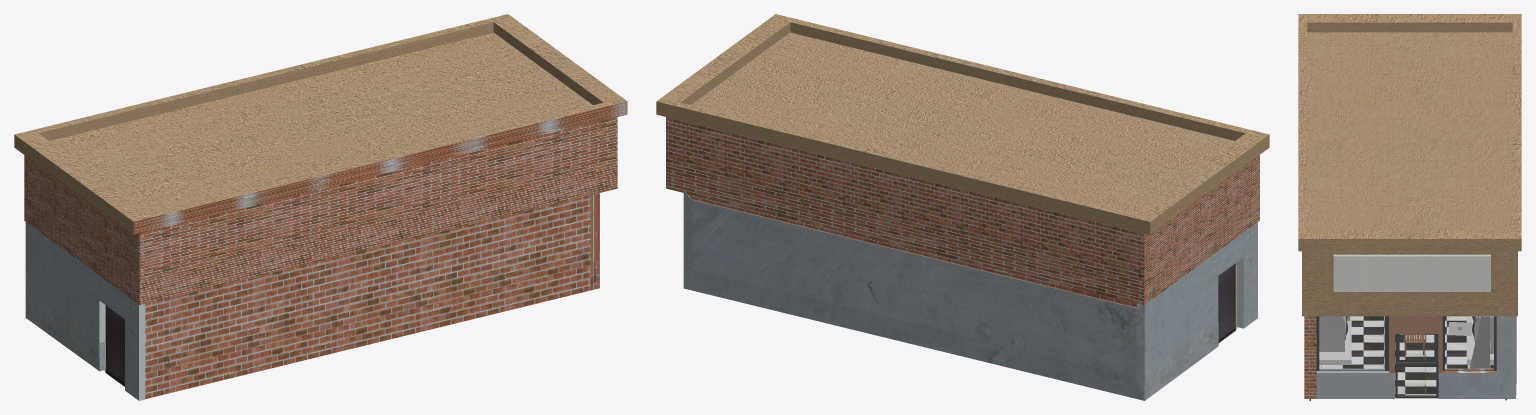
The model's file is Laundromat.dae.
The picture shows the model from 3 angles, left to right: view 1: azimuth 30°, elevation 25°; view 2: azimuth 150°, elevation 25°; view 3: azimuth 270°, elevation 25°; orthographic projection. The views are drawn at different scales.
Parts seen in each view (by area): view 1: Plane.212, Cube.012, Cube.016; view 2: Plane.212, Cube.012, Cube.016; view 3: Plane.212, Cube.012, Cube.010, Plane.001, Cube.013, Cube.014, Cube.011, Cylinder.006, Cube.003, Plane.002, Plane.213, Plane (+2 smaller).
Part boxes in pixels (x1,y1,x2,y2): Plane.212: [14, 14, 627, 304]; Cube.012: [25, 193, 599, 400]; Cube.016: [105, 305, 124, 386]; Plane.212: [656, 14, 1269, 304]; Cube.012: [683, 193, 1257, 400]; Cube.016: [1218, 263, 1236, 343]; Plane.212: [1298, 14, 1521, 316]; Cube.012: [1304, 316, 1516, 398]; Cube.010: [1333, 254, 1490, 291]; Plane.001: [1319, 316, 1493, 396]; Cube.013: [1316, 316, 1388, 370]; Cube.014: [1442, 316, 1496, 370]; Cube.011: [1395, 334, 1438, 398]; Cylinder.006: [1319, 316, 1348, 351]; Cube.003: [1469, 316, 1489, 368]; Plane.002: [1319, 316, 1351, 364]; Plane.213: [1448, 322, 1471, 335]; Plane: [1466, 316, 1493, 364].
Bounding box in the file's own units: 46 × 19.27 × 16.6.
Materials: 26 (20 with a texture image).
